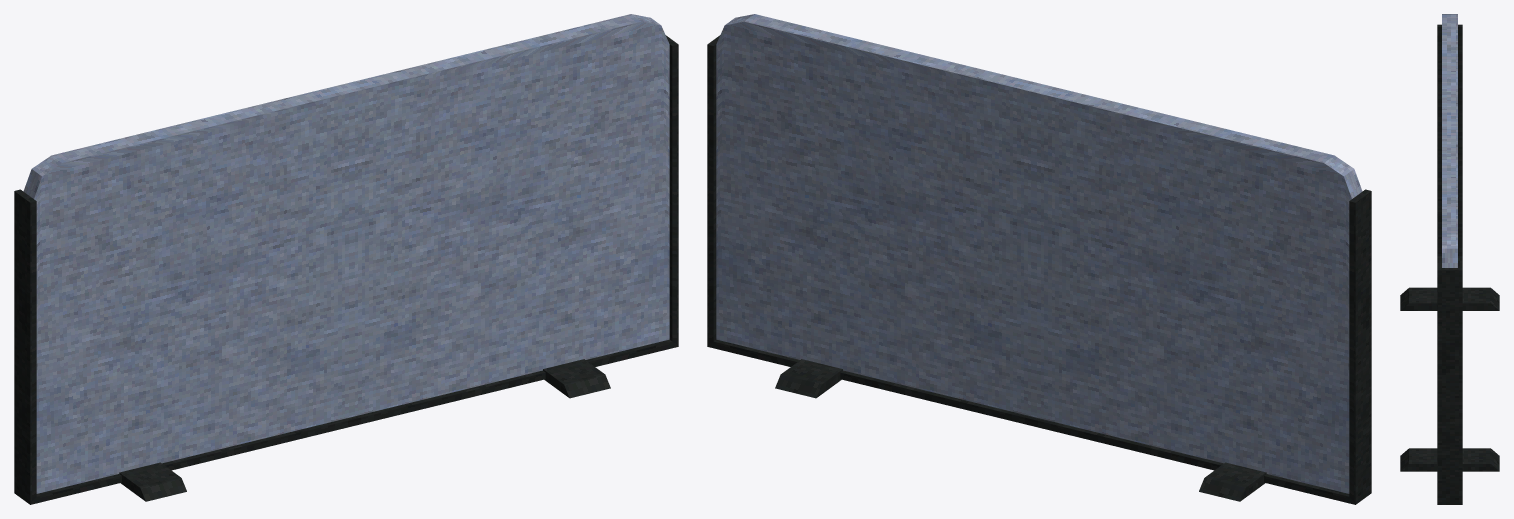
The model's file is divider_black_blue_low.glb.
3 views of the same model, side by side, from view 1: azimuth 30°, elevation 25°; view 2: azimuth 150°, elevation 25°; view 3: azimuth 270°, elevation 25° (orthographic). The views are drawn at different scales.
Visible parts, largest first — view 1: divider_black_blue_low; view 2: divider_black_blue_low; view 3: divider_black_blue_low.
Boxes of the visible parts, bbox=[...] form: divider_black_blue_low: bbox=[14, 14, 678, 504]; divider_black_blue_low: bbox=[707, 14, 1371, 504]; divider_black_blue_low: bbox=[1400, 14, 1499, 504].
Bounding box in the file's own units: 3.06 × 1.5 × 0.523.
1 material, 1 textured.
